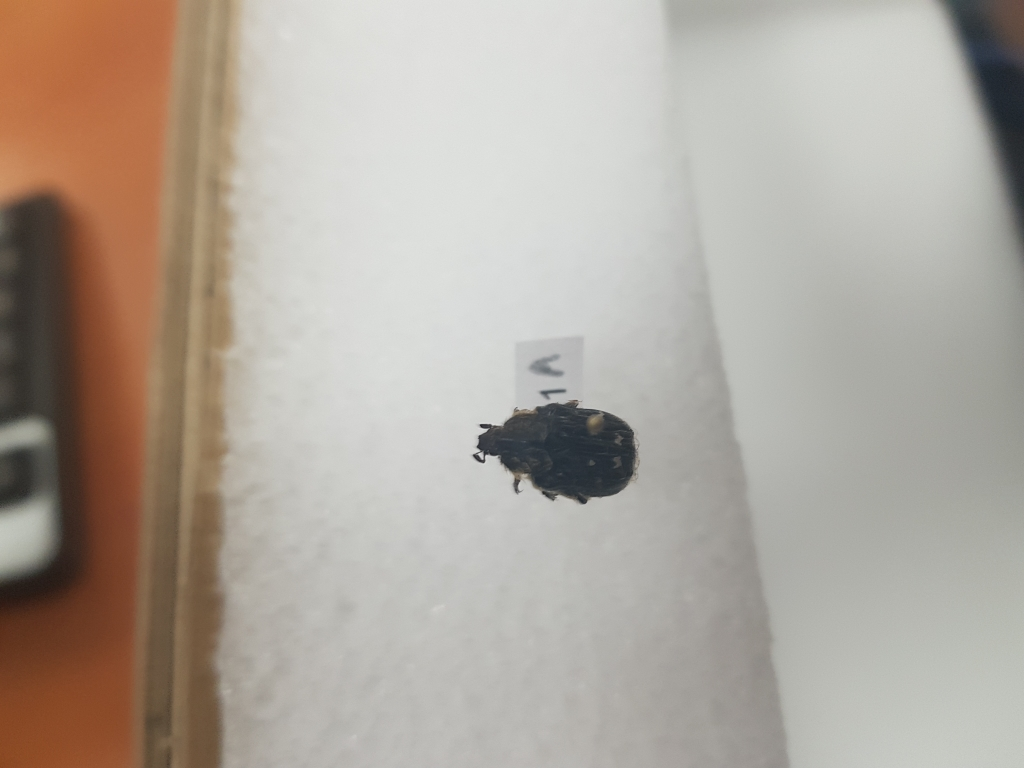Tropinota_senicula: (469, 384, 648, 510)
